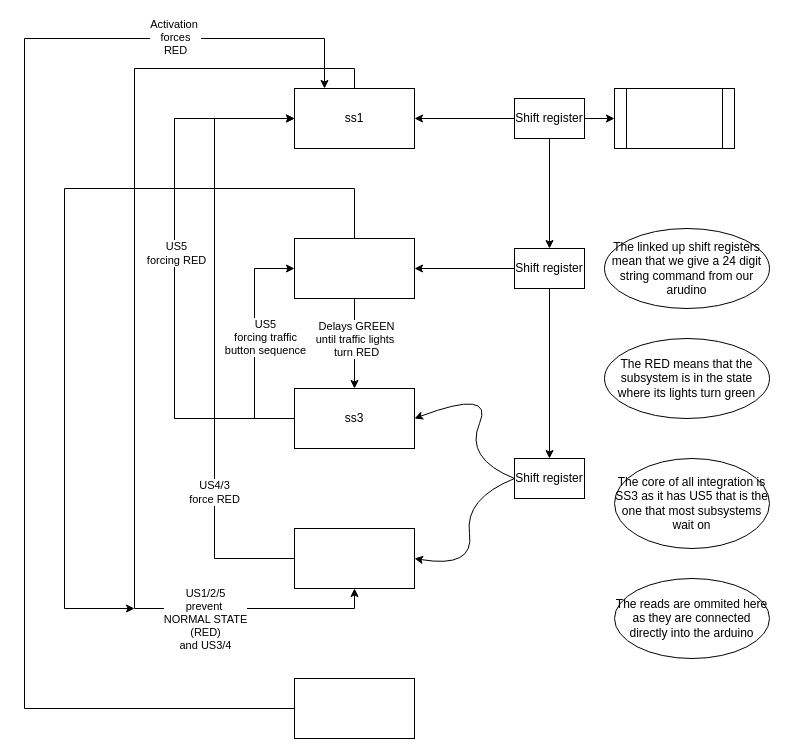
Image size: 787x756. Some labels were removed from this diagram. Each missing label, with the centre of its shape:
"Arduino" belongs at point 674,118.
"ss2" belongs at point 354,268.
"ss4" belongs at point 354,558.
"ss5" belongs at point 354,708.
